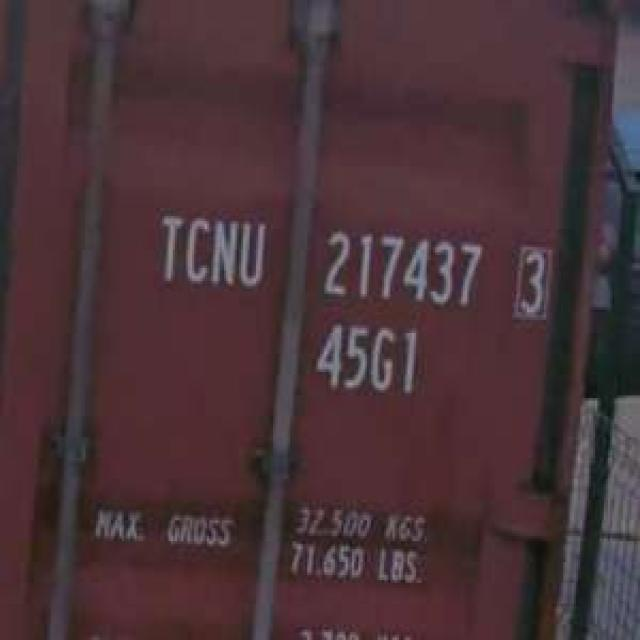dv: (509, 238, 555, 325)
owner: (152, 206, 269, 290)
serial: (317, 222, 488, 314)
size: (307, 319, 427, 399)
